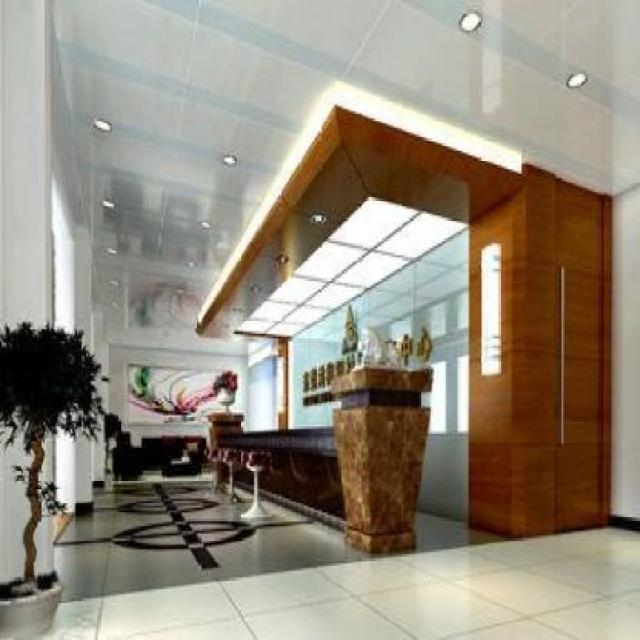frontdesk: (195, 354, 442, 568)
